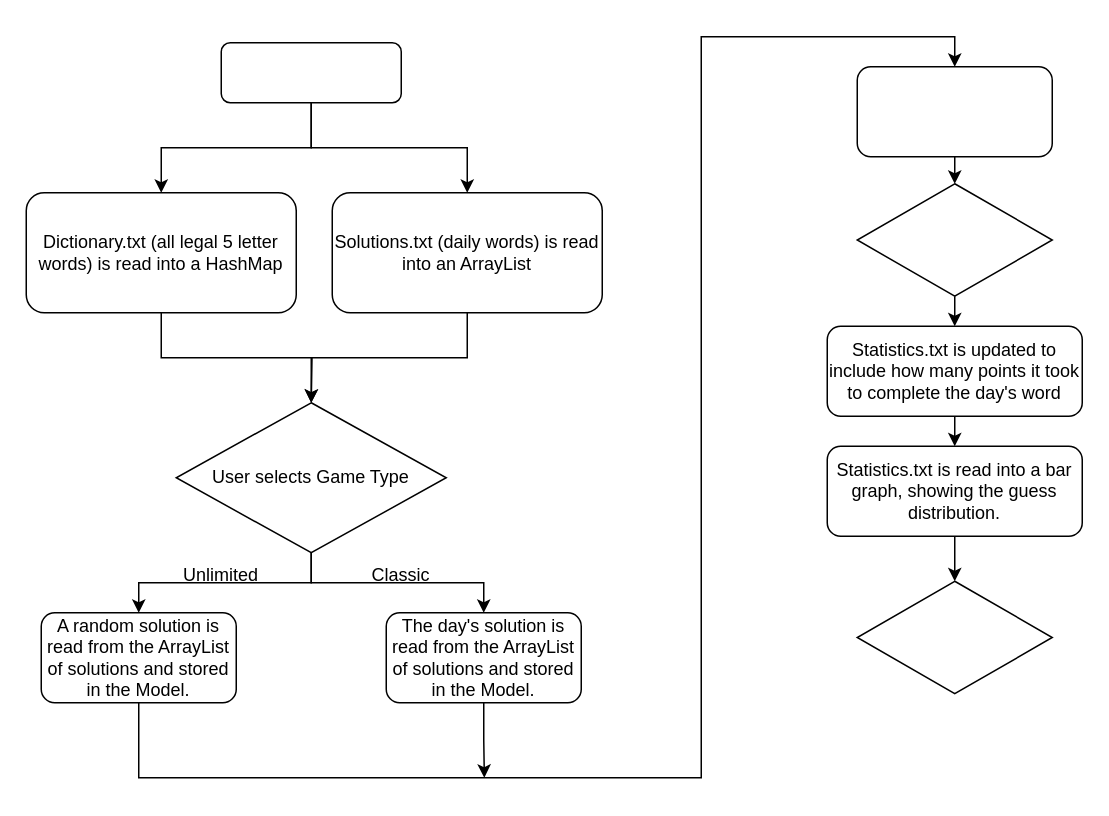
Some shapes in this 1109 by 816 pixel diagram are drawn without their labels. The centre of each missing label's shape, as x and y in pixels:
"App Launches" belongs at point (310, 72).
"Game Ends" belongs at point (954, 239).
"User Closes App" belongs at point (954, 637).
"User plays game (guesses are compared with known solution)" belongs at point (954, 111).
